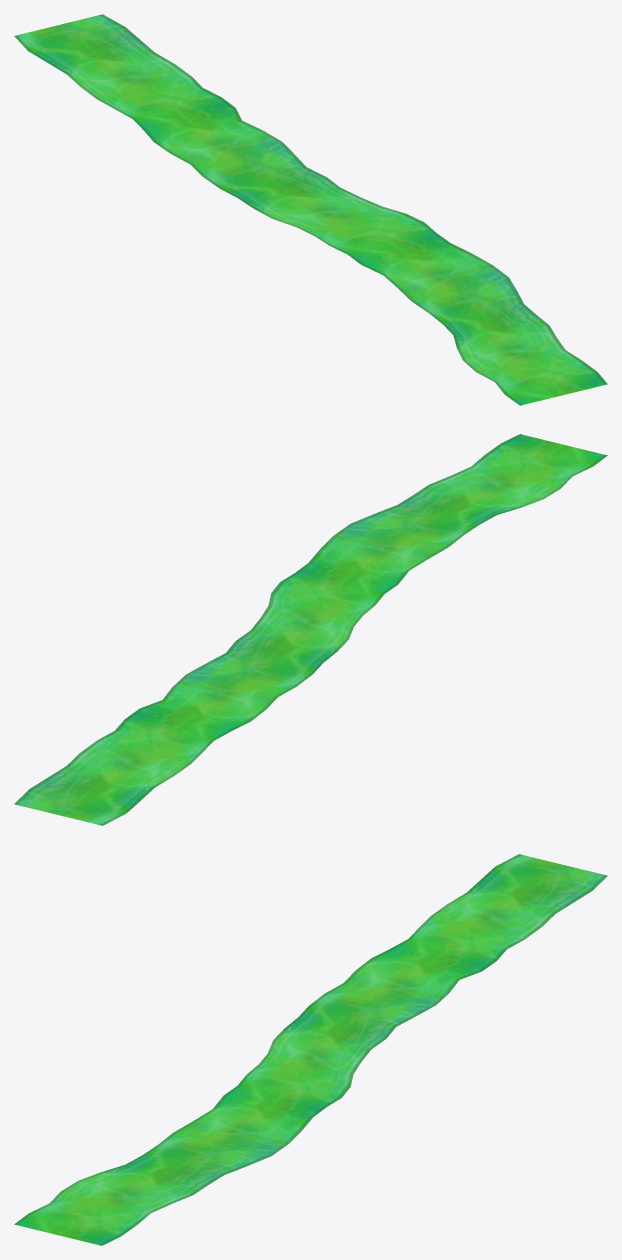
The model's file is Amazon01_Lu03.FBX.
The picture shows the model from 3 angles, top to bottom: view 1: azimuth 30°, elevation 25°; view 2: azimuth 150°, elevation 25°; view 3: azimuth 330°, elevation 25°; orthographic projection.
Visible parts, largest first — view 1: Amazon01_Lu03; view 2: Amazon01_Lu03; view 3: Amazon01_Lu03.
Part boxes in pixels (x1,y1,x2,y2): Amazon01_Lu03: [14, 14, 607, 405]; Amazon01_Lu03: [14, 434, 607, 825]; Amazon01_Lu03: [14, 854, 607, 1245].
Bounding box in the file's own units: 1430 × 0.000244 × 9686.
